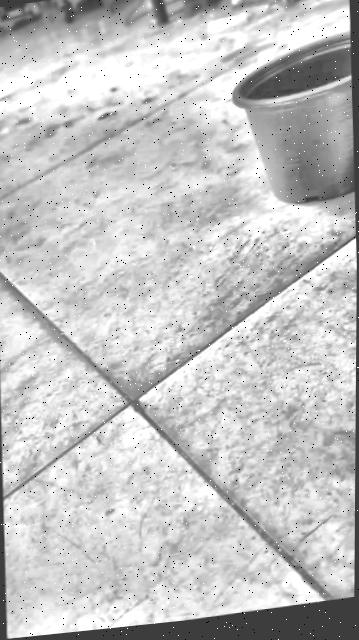pot: (229, 30, 356, 212)
